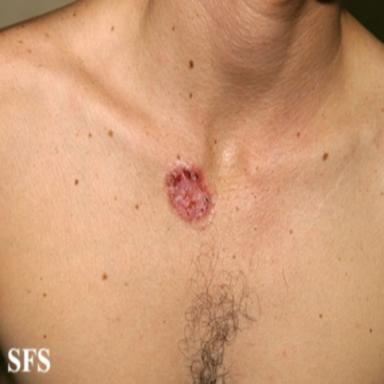basal-cell-carcinoma: (162, 154, 217, 232)
